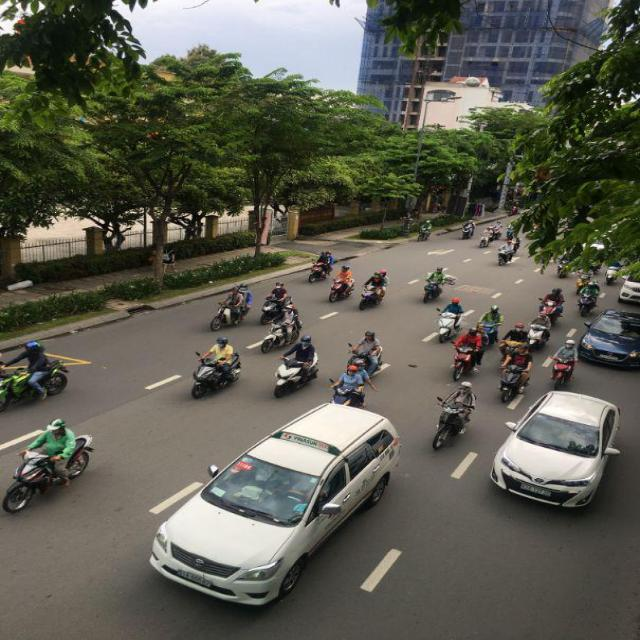car: (148, 402, 406, 610), (489, 392, 623, 508), (578, 309, 640, 368), (618, 279, 640, 309)
motorcycle: (2, 441, 92, 515), (2, 360, 69, 412), (432, 393, 474, 452), (498, 350, 533, 405), (272, 357, 318, 397), (193, 358, 241, 396), (450, 333, 485, 381), (330, 366, 368, 409), (211, 292, 249, 329), (551, 342, 576, 385), (360, 281, 389, 311)
